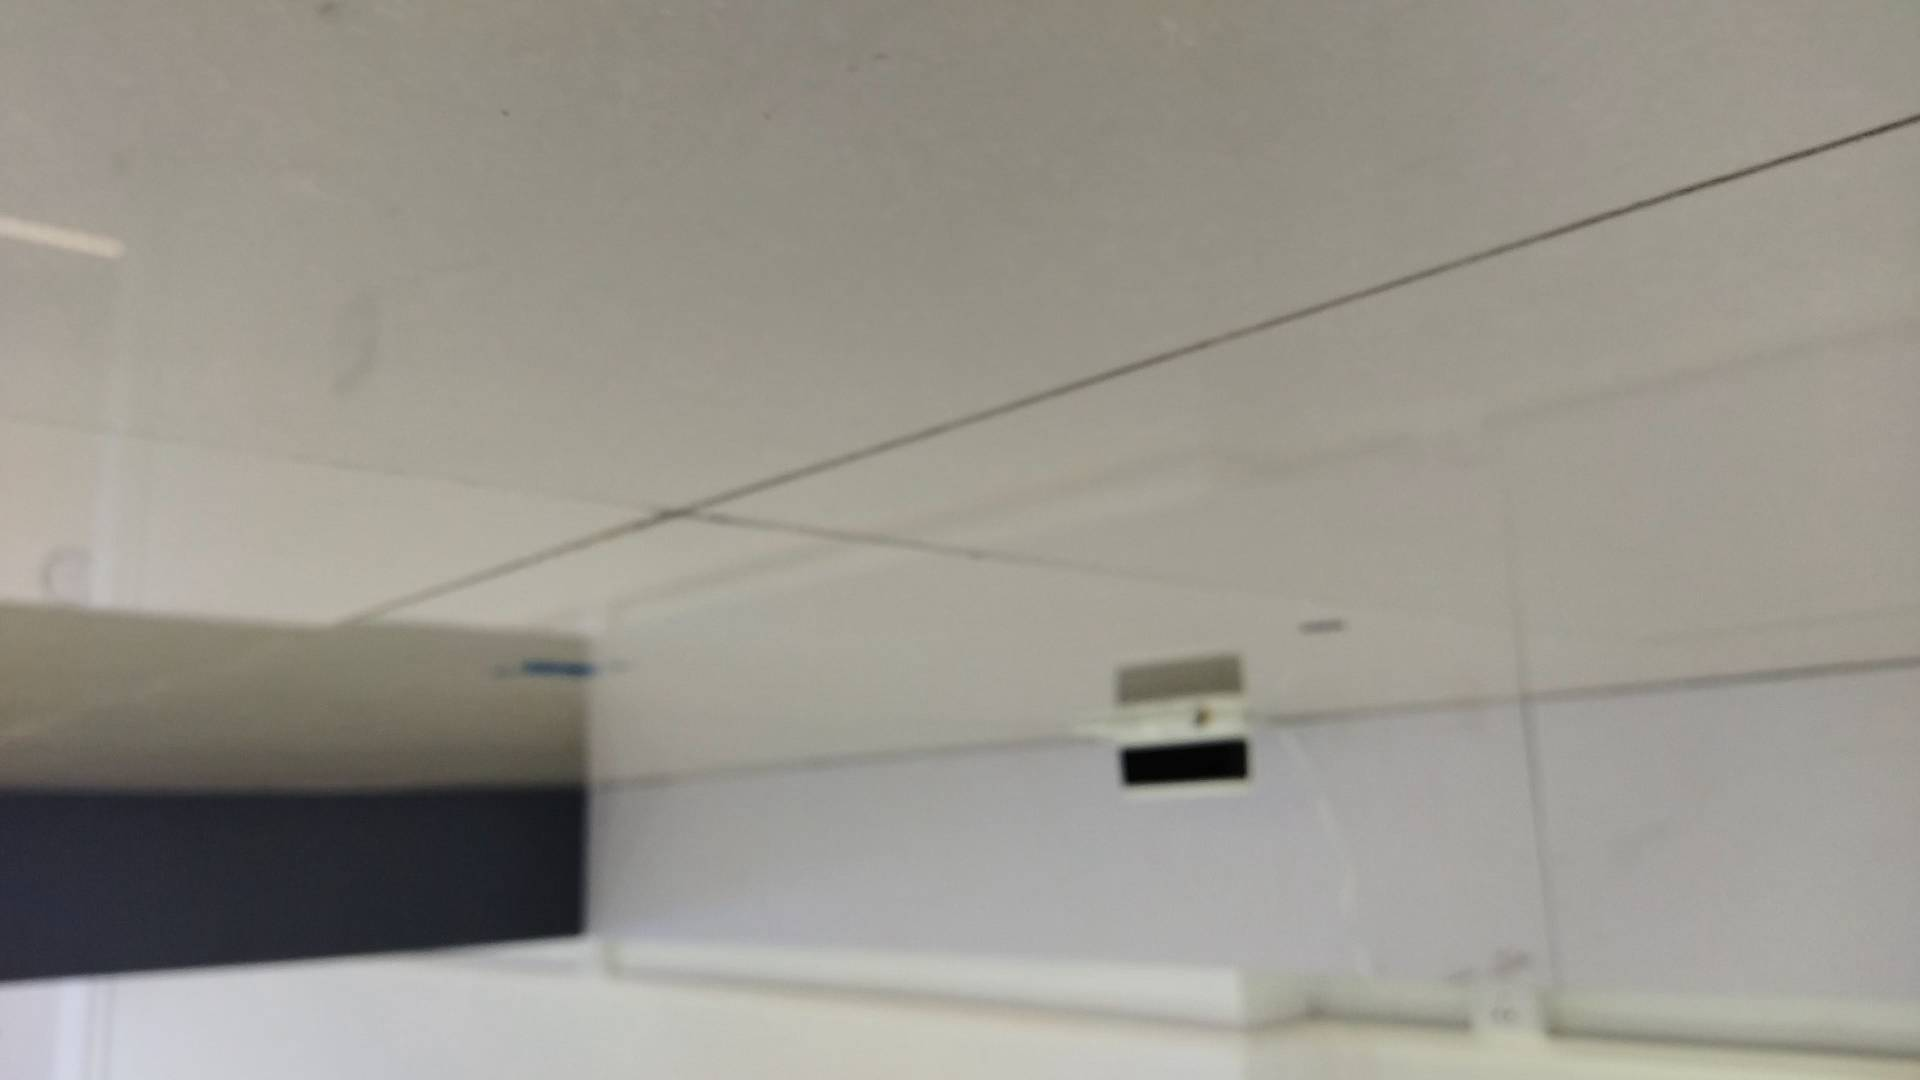recharge seat: (1073, 691, 1269, 800)
